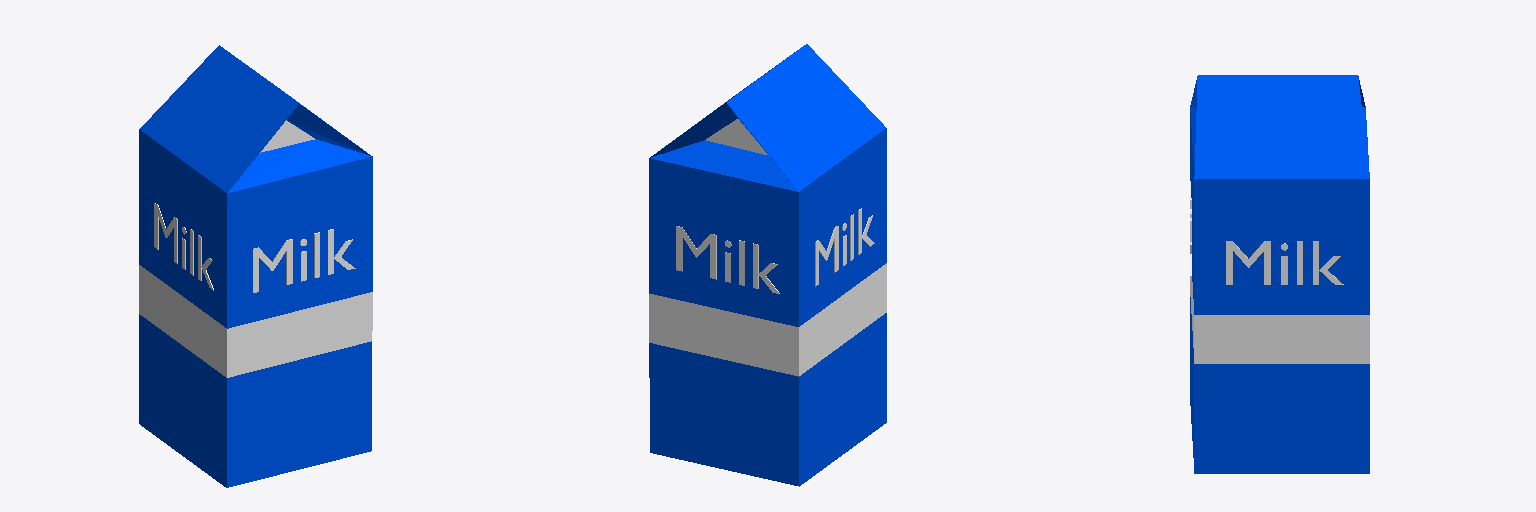
3 views of the same model, side by side, from view 1: azimuth 30°, elevation 25°; view 2: azimuth 150°, elevation 25°; view 3: azimuth 270°, elevation 25° (orthographic).
Parts seen in each view (by area): view 1: default_0, default_1, default_2; view 2: default_0, default_1, default_2; view 3: default_0, default_1, default_2.
Boxes of the visible parts, x1=… form: default_0: x1=139, y1=45, x2=372, y2=487; default_1: x1=139, y1=120, x2=372, y2=377; default_2: x1=154, y1=203, x2=355, y2=292; default_0: x1=649, y1=44, x2=886, y2=486; default_1: x1=649, y1=119, x2=886, y2=376; default_2: x1=676, y1=208, x2=874, y2=293; default_0: x1=1190, y1=75, x2=1369, y2=473; default_1: x1=1190, y1=276, x2=1369, y2=363; default_2: x1=1190, y1=181, x2=1343, y2=284.
Size of the model in its own units: 1.96 by 4.57 by 2.05.
Materials: 2 (2 with a texture image).